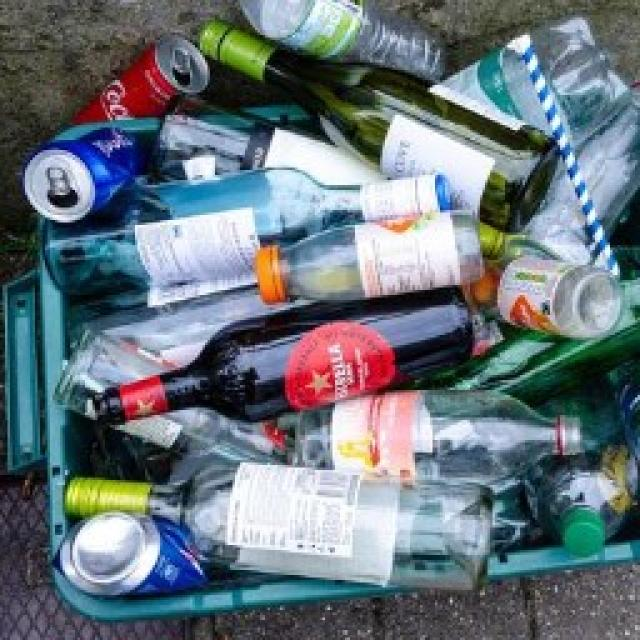electronic: (45, 162, 640, 594)
